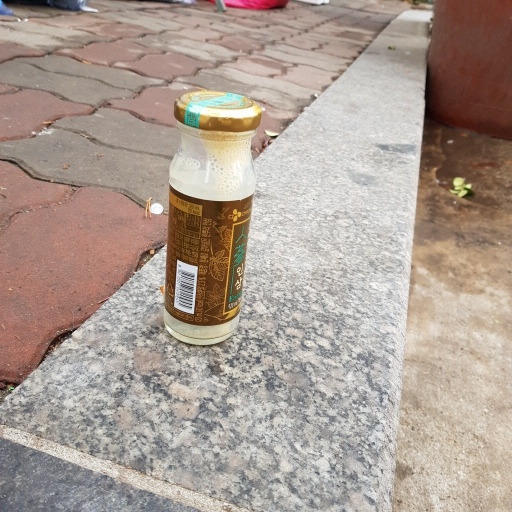Glass_4: (155, 87, 267, 351)
